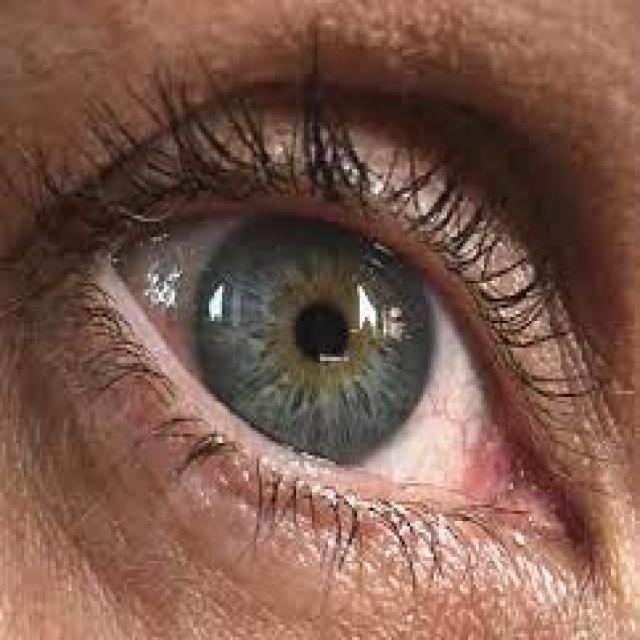Eyes-iris: (188, 199, 438, 477)
